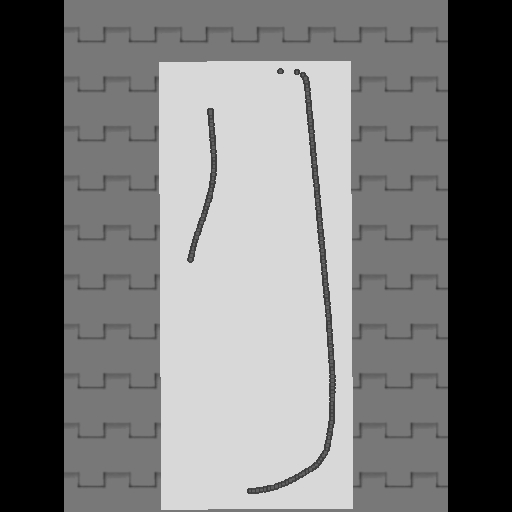Defect: (184, 259, 247, 499)
